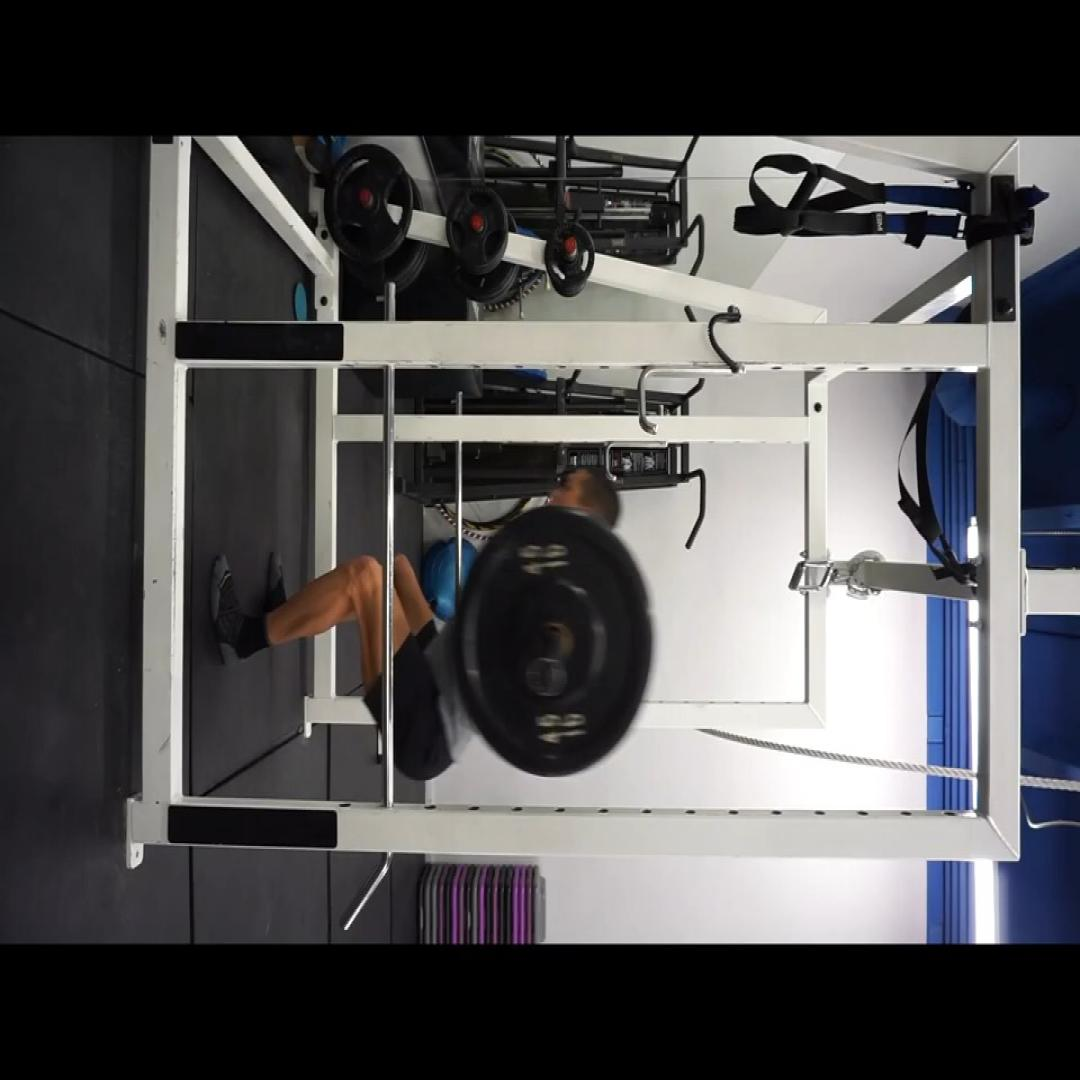Bar: (529, 656, 566, 696)
Barbell: (457, 509, 651, 777)
